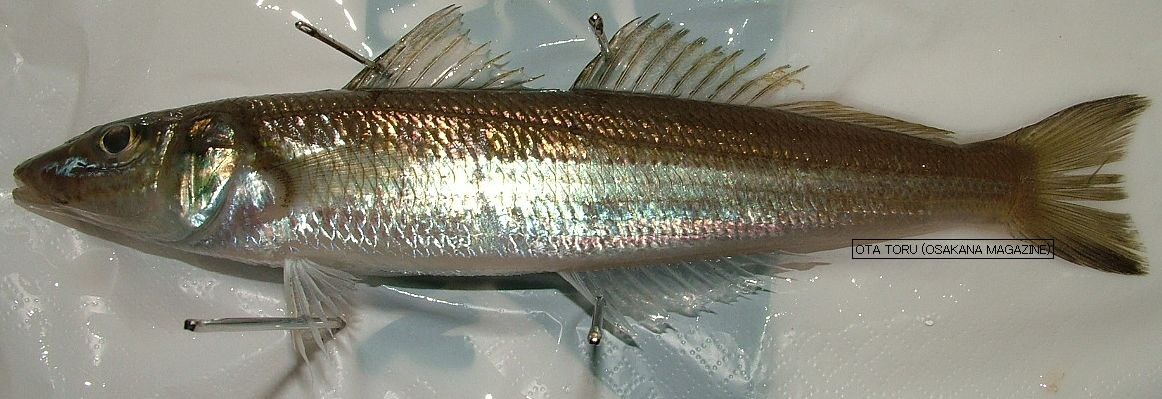kiss: (12, 29, 1150, 352)
